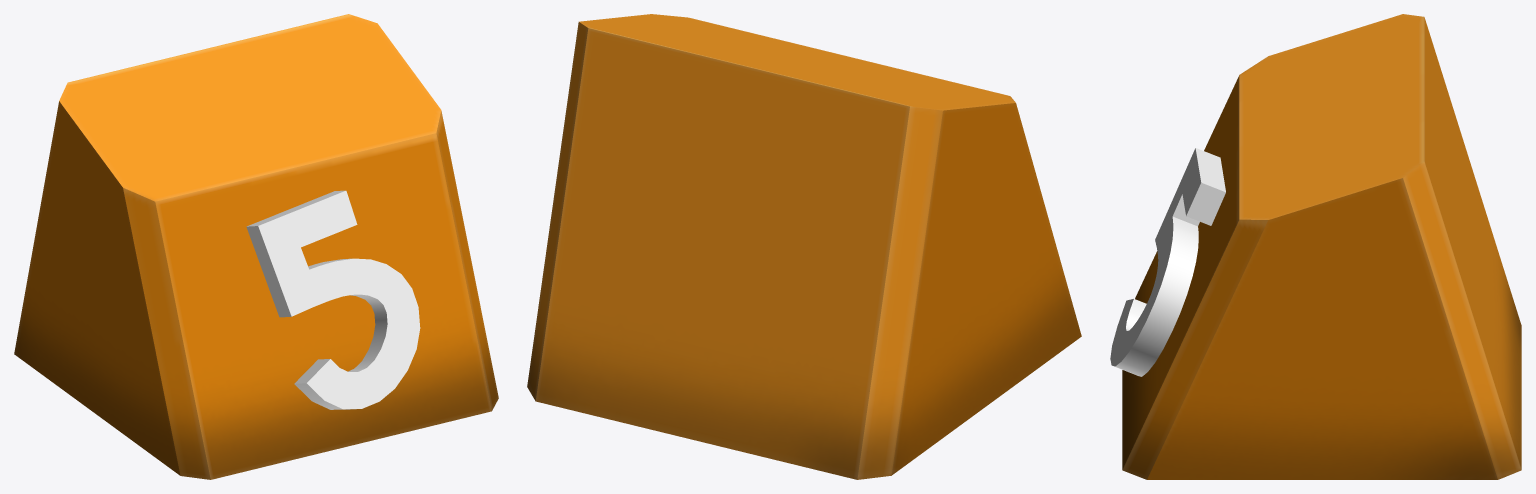
Rendered from hole5Mesh.FBX.
The picture shows the model from 3 angles, left to right: view 1: azimuth 30°, elevation 25°; view 2: azimuth 150°, elevation 25°; view 3: azimuth 270°, elevation 25°; orthographic projection. The views are drawn at different scales.
Parts seen in each view (by area): view 1: holeNumber5; view 2: holeNumber5; view 3: holeNumber5.
Boxes of the visible parts, x1,y1,x2,y2 form: holeNumber5: (14, 14, 498, 479); holeNumber5: (527, 14, 1081, 479); holeNumber5: (1110, 14, 1521, 479).
Bounding box in the file's own units: 2026 × 1779 × 2147.
